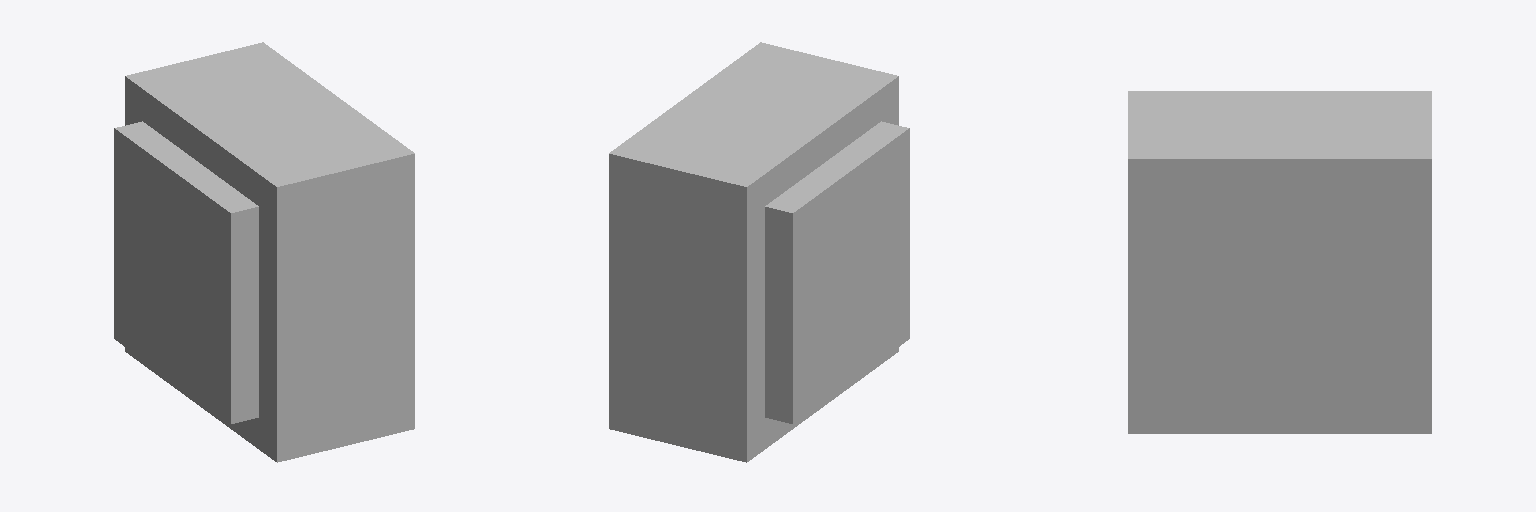
Rendered from button_on.obj.
3 views of the same model, side by side, from view 1: azimuth 30°, elevation 25°; view 2: azimuth 150°, elevation 25°; view 3: azimuth 270°, elevation 25° (orthographic).
Parts seen in each view (by area): view 1: pasted__pasted__pCube11 pasted__group32 group37; view 2: pasted__pasted__pCube11 pasted__group32 group37; view 3: pasted__pasted__pCube11 pasted__group32 group37.
Boxes of the visible parts, x1,y1,x2,y2 form: pasted__pasted__pCube11 pasted__group32 group37: [114, 42, 414, 462]; pasted__pasted__pCube11 pasted__group32 group37: [609, 42, 909, 462]; pasted__pasted__pCube11 pasted__group32 group37: [1128, 91, 1431, 433].
Bounding box in the file's own units: 0.6328 × 1 × 1.